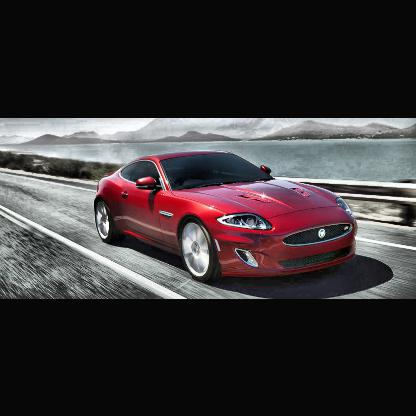Jaguar XK XKR 2012: (81, 147, 378, 289)
